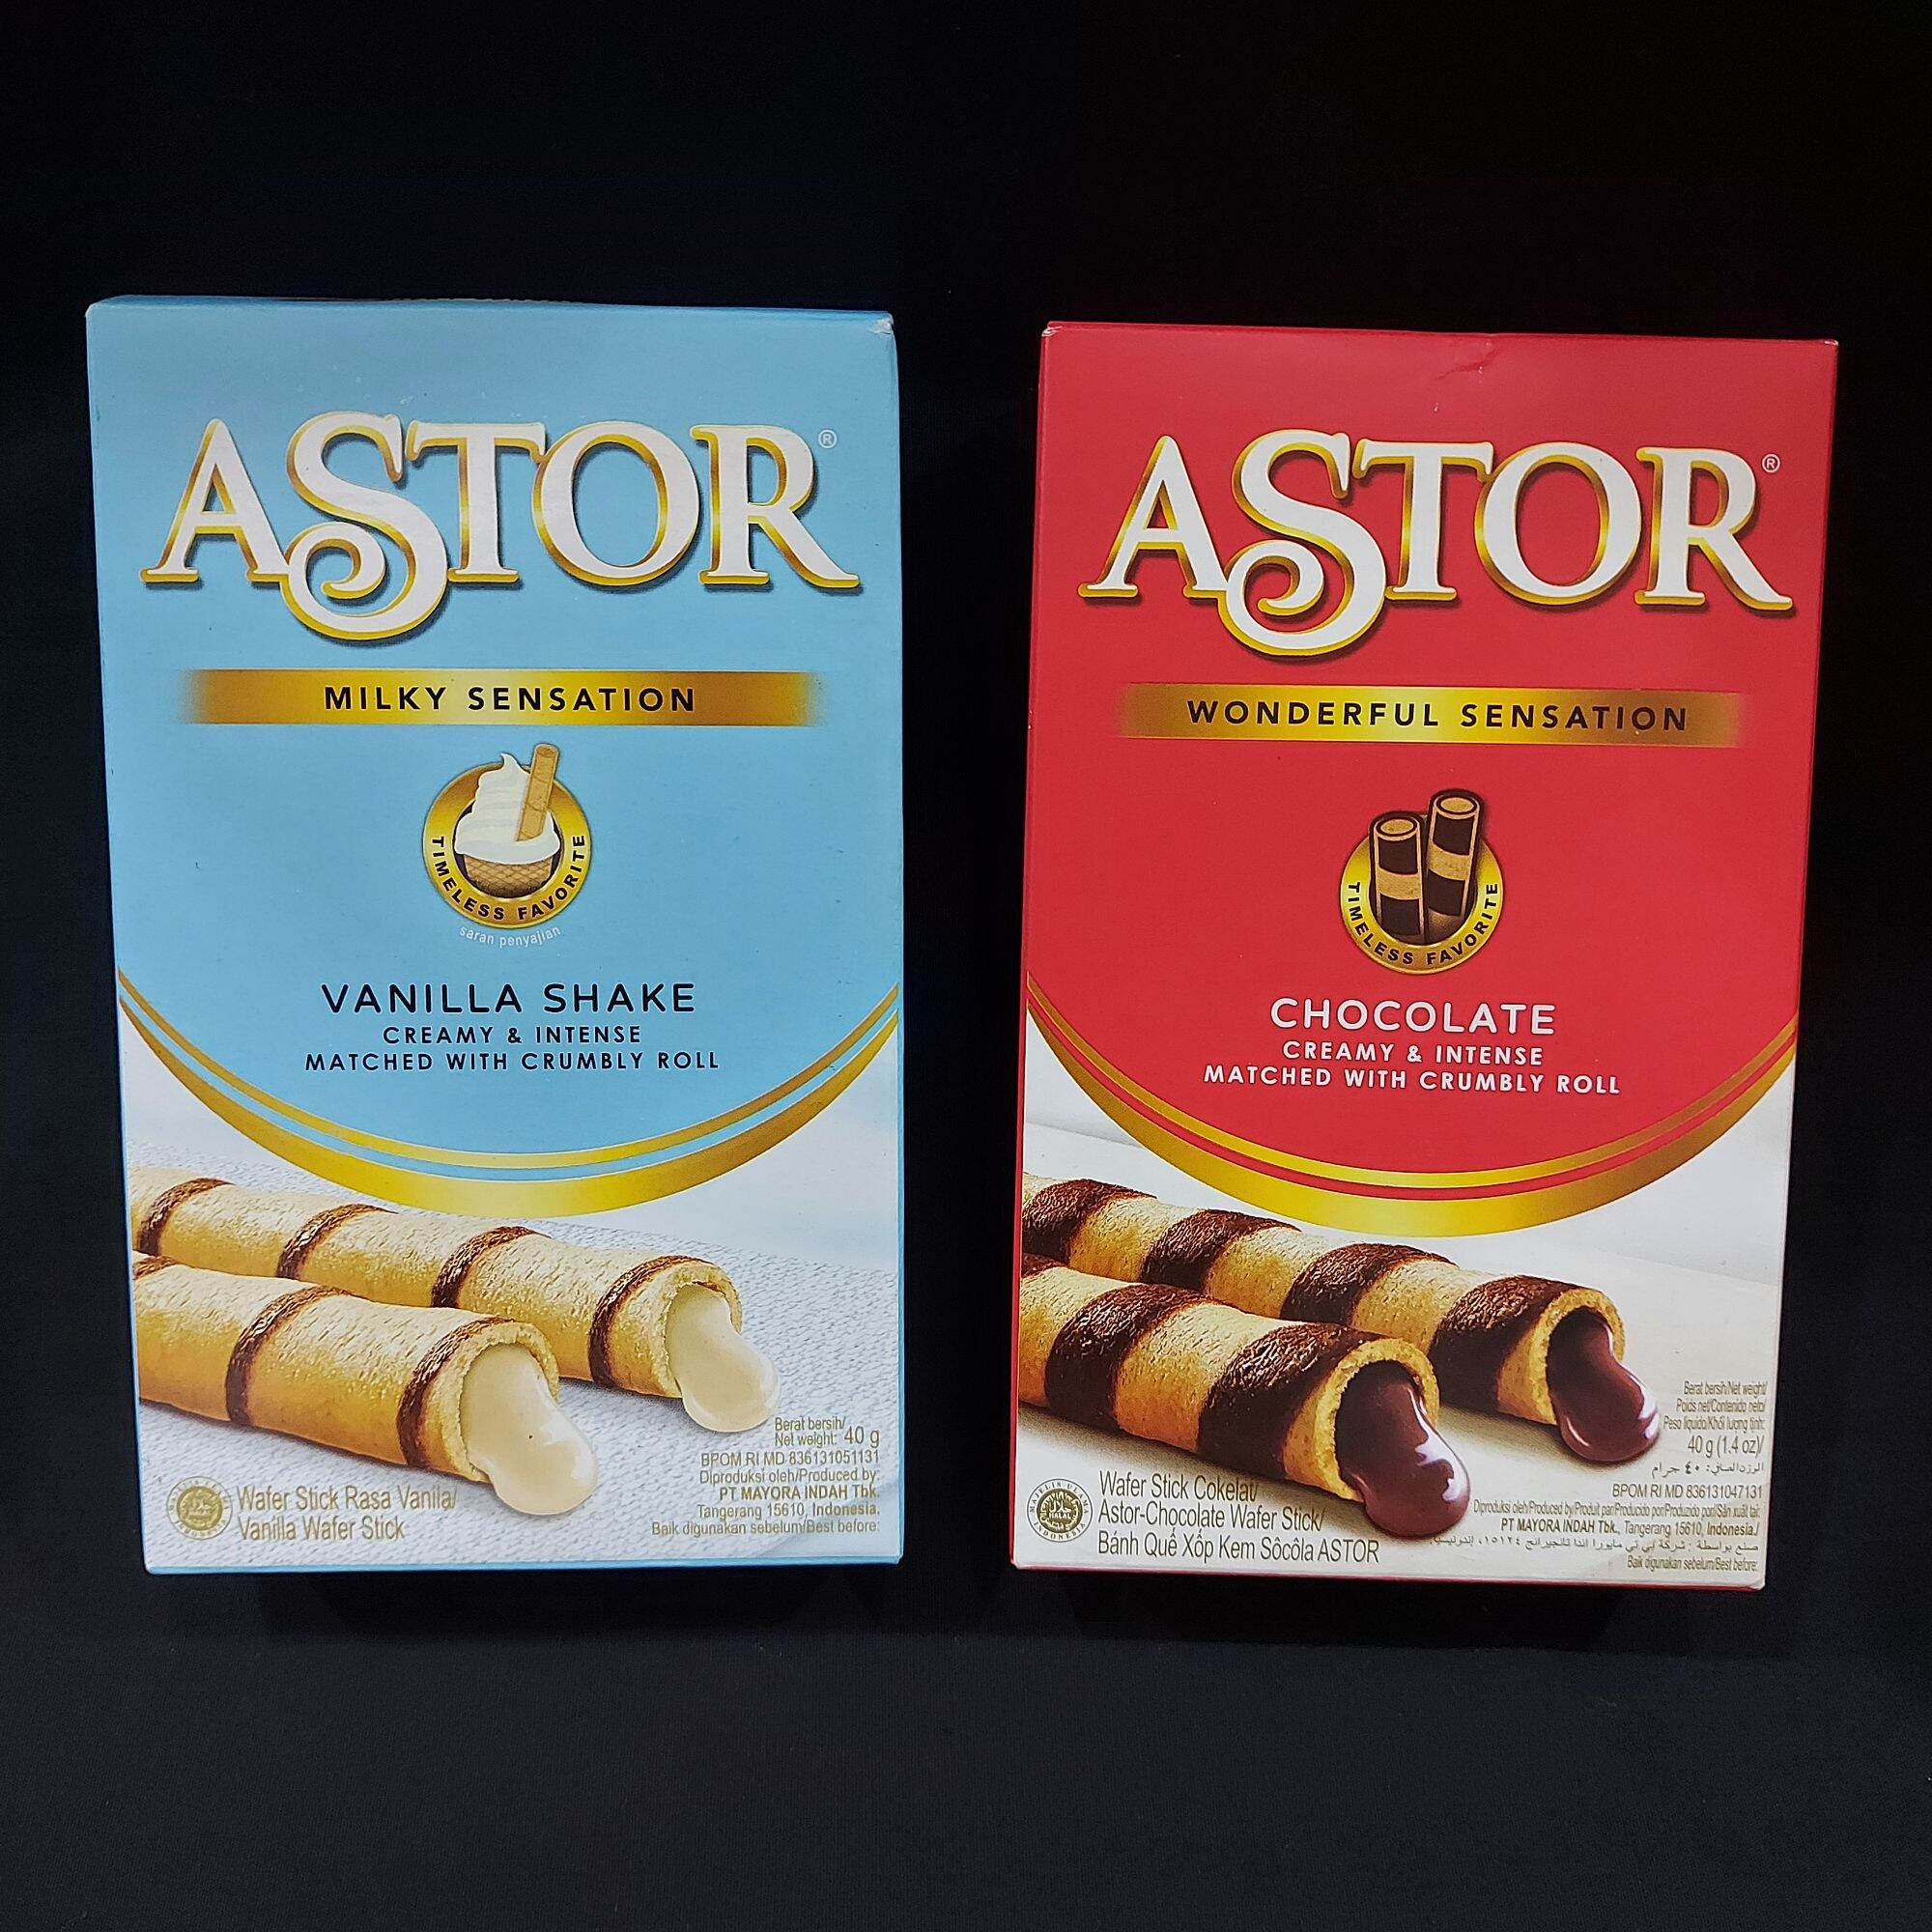Astor Chocolate (40g): (1005, 295, 1819, 1668)
